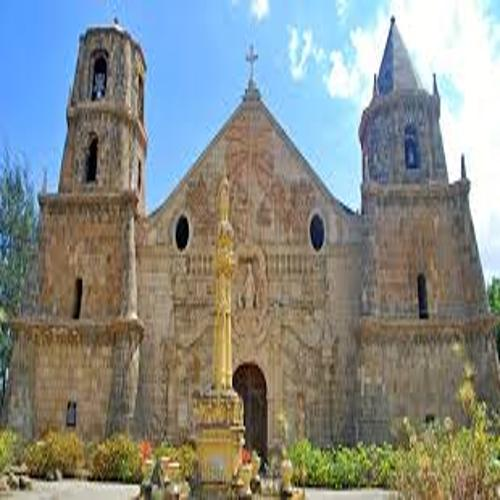Miagao Church: (27, 11, 500, 465)
